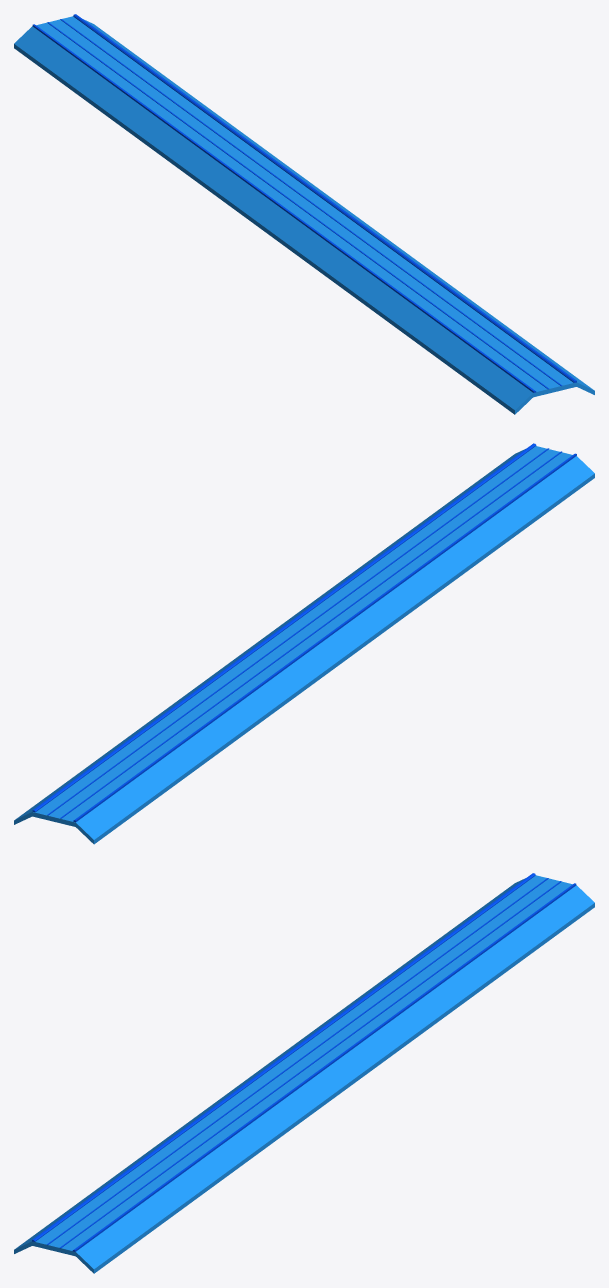
File: Highway.obj
3 views of the same model, one above another, from view 1: azimuth 30°, elevation 25°; view 2: azimuth 150°, elevation 25°; view 3: azimuth 330°, elevation 25° (orthographic).
Visible parts, largest first — view 1: Box002; view 2: Box002; view 3: Box002.
Part boxes in pixels (<box>): Box002: <box>14,14,594,414</box>; Box002: <box>14,443,594,844</box>; Box002: <box>14,873,594,1273</box>.
Size of the model in its own units: 185 by 42.53 by 2001.
